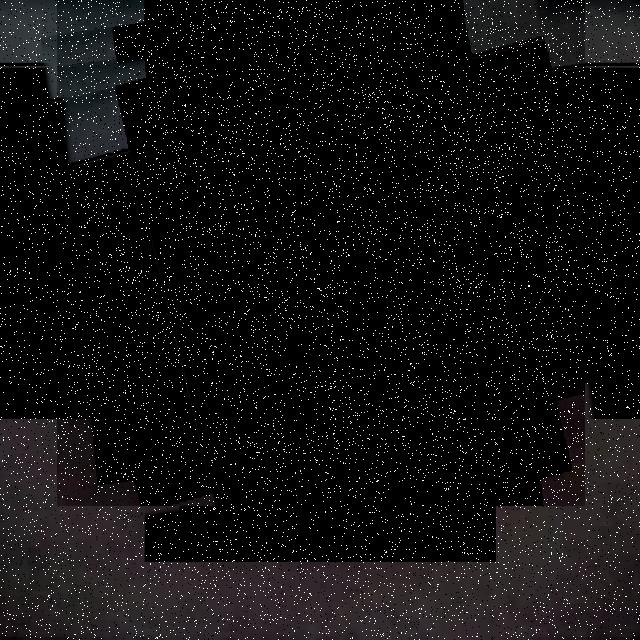dua puluh ribu rupiah: (57, 0, 585, 506)
